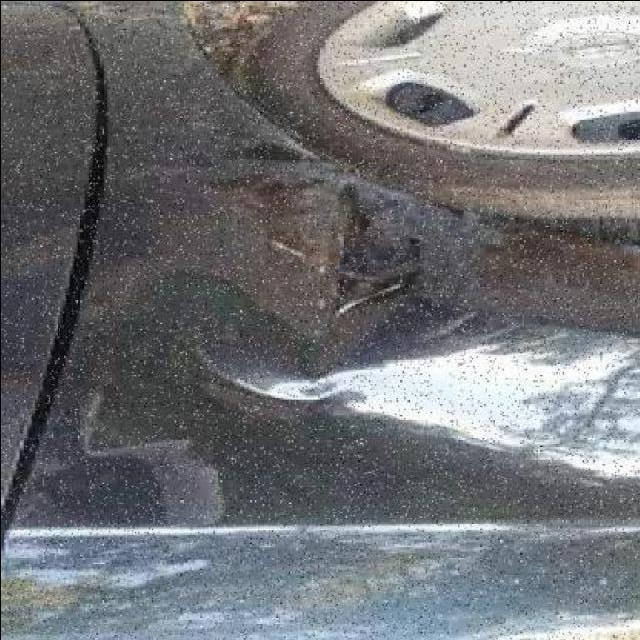fender-dent: (45, 101, 640, 622)
